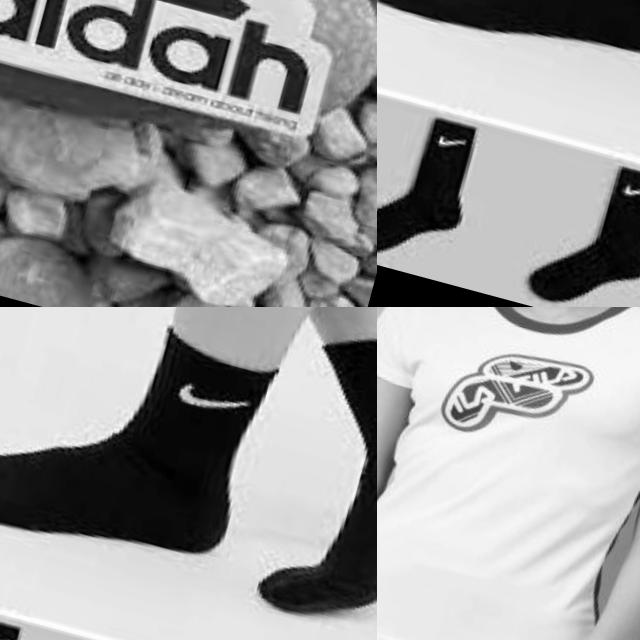ADIDAS_fake: (0, 0, 348, 134)
FILA_original: (432, 320, 610, 474)
NIKE_original: (147, 351, 273, 444), (399, 107, 483, 177), (591, 159, 640, 223)
